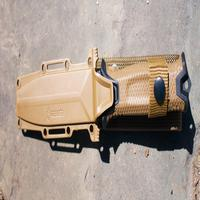knife: (7, 52, 193, 140)
